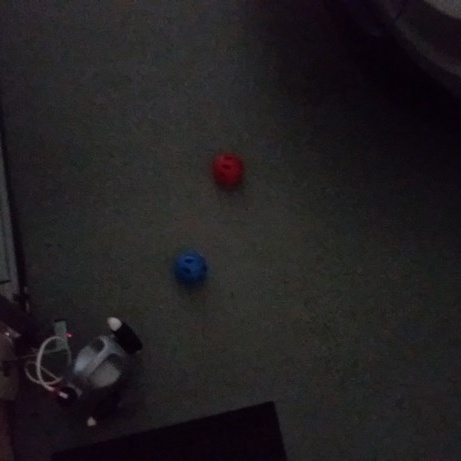blueball: (168, 248, 212, 292)
redball: (209, 149, 244, 188)
